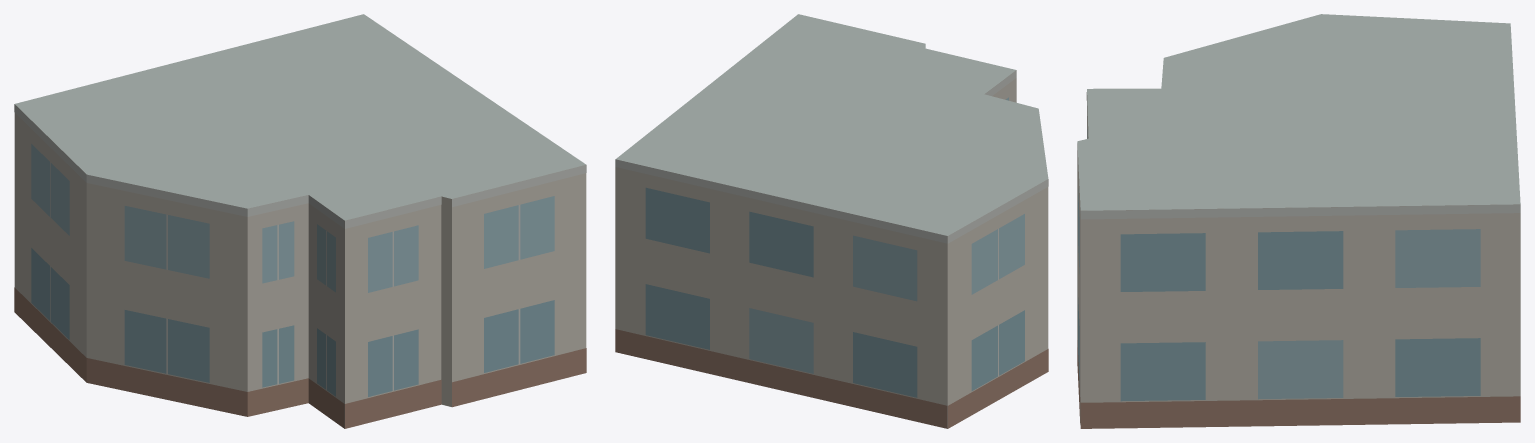
File: survey-upis-33008799.glb
3 views of the same model, side by side, from view 1: azimuth 30°, elevation 25°; view 2: azimuth 150°, elevation 25°; view 3: azimuth 270°, elevation 25° (orthographic). The views are drawn at different scales.
Parts seen in each view (by area): view 1: survey-upis-33008799.tmp; view 2: survey-upis-33008799.tmp; view 3: survey-upis-33008799.tmp.
Part boxes in pixels (x1,y1,x2,y2): survey-upis-33008799.tmp: [14, 14, 586, 428]; survey-upis-33008799.tmp: [615, 14, 1048, 428]; survey-upis-33008799.tmp: [1077, 14, 1520, 428].
Bounding box in the file's own units: 11.81 × 6.1 × 11.25.
